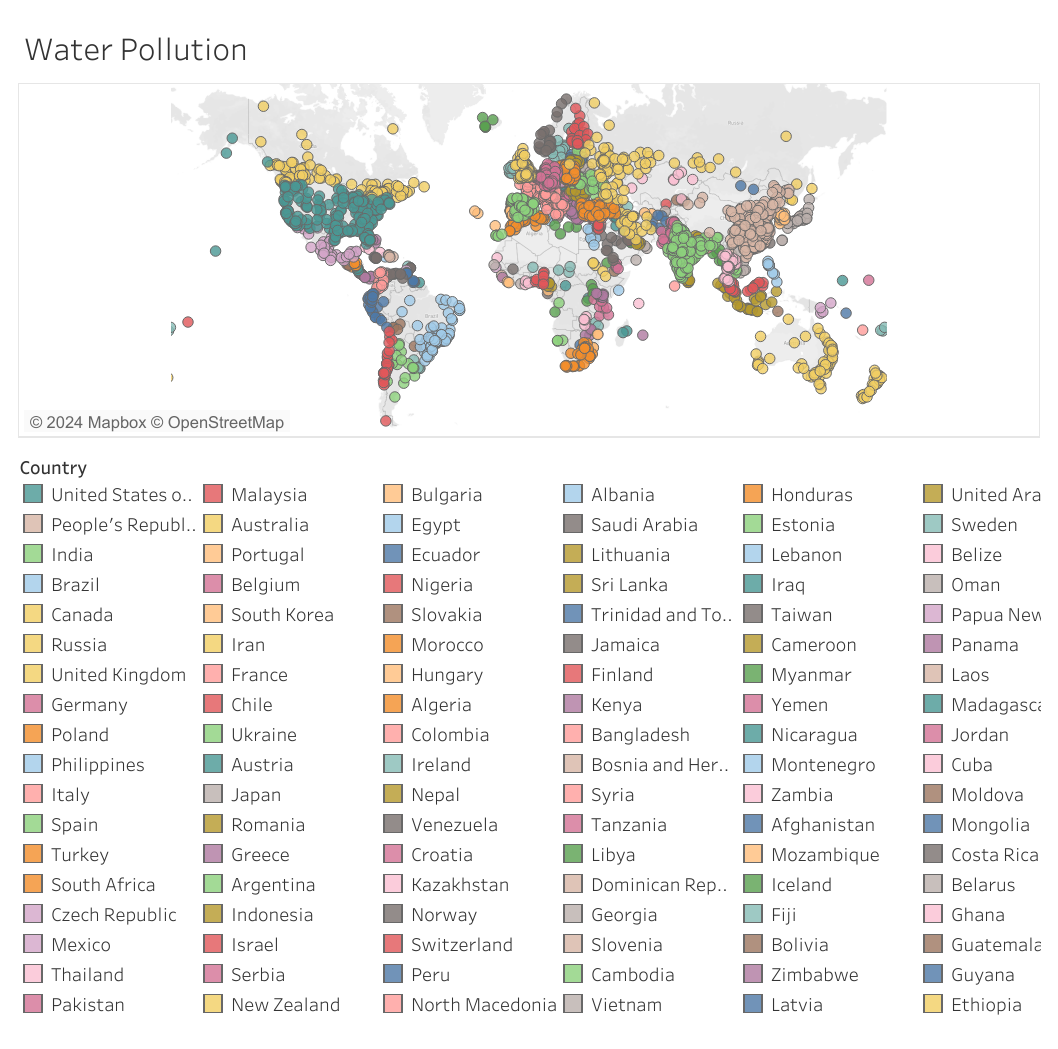

Layout of this report page (visuals, bound fields, positions):
{"tool":"tableau","page":{"name":"Global Water Pollutiuon","canvas":[1000,1000],"units":"permille","ordinal":1},"visuals":[{"type":"worksheet","title":"Water Pollution","mark":"Multipolygon","box":[16.8,29.5,726.9,937]},{"type":"legend","title":"Water Pollution","param":"[federated.0c0ghwh1vu6bqm19vr6470mduwwh].[none:Country:nk]","box":[765.6,48.3,217.6,892.8]}]}

Visuals, with their boxes on the dashboard's canvas, which has no fixed pixel size, in thousandths of its width and height (x1, y1, x2, y2). These are canvas units, not pixel positions in the 1058x1049 screenshot, which may show the page scaled, cropped or inside an application window:
"Water Pollution" worksheet (Multipolygon marks): bbox=[17, 30, 744, 966]
"Water Pollution" legend: bbox=[766, 48, 983, 941]
